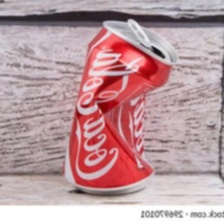can: (63, 16, 179, 197)
